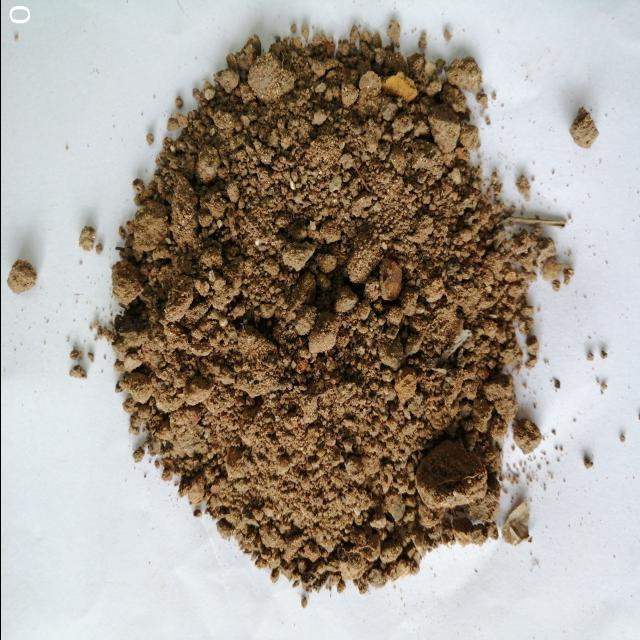soil: (174, 129, 454, 512)
